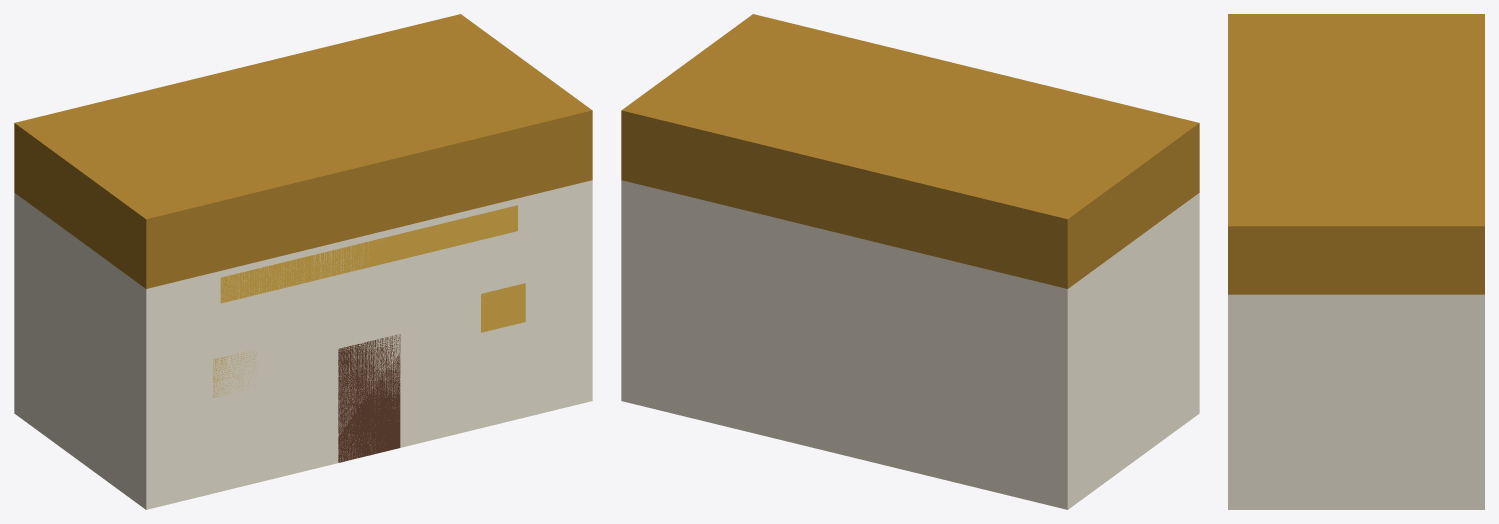
The model's file is gedung_bank.fbx.
3 renders of one model, left to right at view 1: azimuth 30°, elevation 25°; view 2: azimuth 150°, elevation 25°; view 3: azimuth 270°, elevation 25°, orthographic. The views are drawn at different scales.
Visible parts, largest first — view 1: gedung_bank; view 2: gedung_bank; view 3: gedung_bank.
Boxes of the visible parts, <box> form: gedung_bank: <box>14,14,592,509</box>; gedung_bank: <box>621,14,1199,509</box>; gedung_bank: <box>1228,14,1484,509</box>.
Bounding box in the file's own units: 900 × 560 × 460.
1 material, 1 textured.
